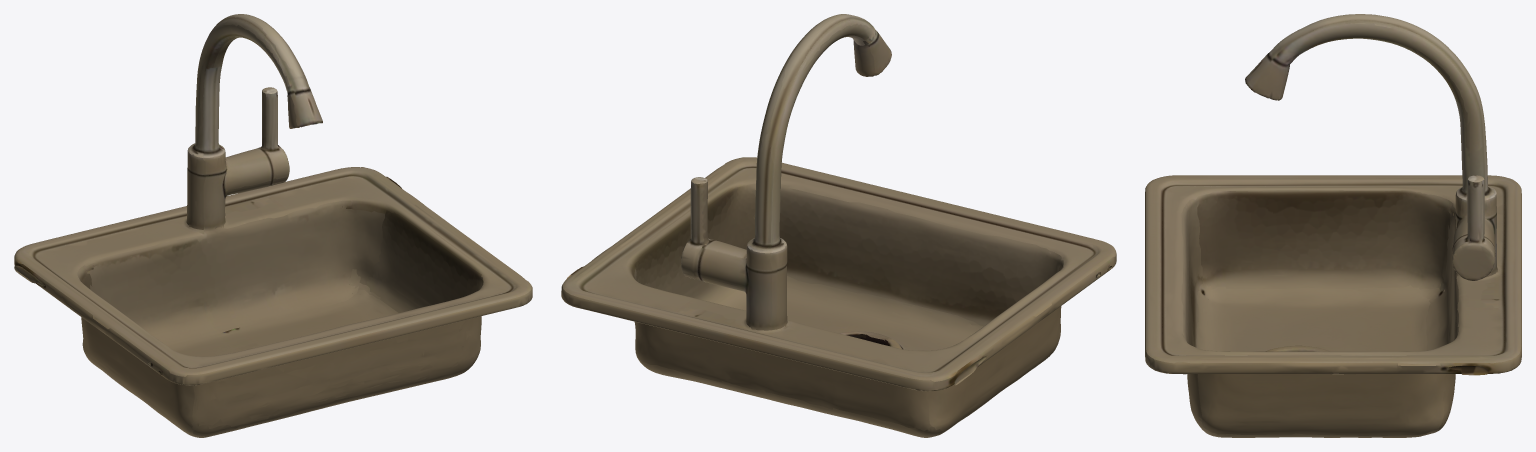
The picture shows the model from 3 angles, left to right: view 1: azimuth 30°, elevation 25°; view 2: azimuth 150°, elevation 25°; view 3: azimuth 270°, elevation 25°; orthographic projection. The views are drawn at different scales.
Parts seen in each view (by area): view 1: tmp79zb7tlf.ply; view 2: tmp79zb7tlf.ply; view 3: tmp79zb7tlf.ply.
Part boxes in pixels (bbox=[...]): tmp79zb7tlf.ply: bbox=[14, 14, 532, 437]; tmp79zb7tlf.ply: bbox=[561, 14, 1116, 437]; tmp79zb7tlf.ply: bbox=[1145, 14, 1521, 437].
Bounding box in the file's own units: 198 × 176 × 166.
Materials: 1 (1 with a texture image).
